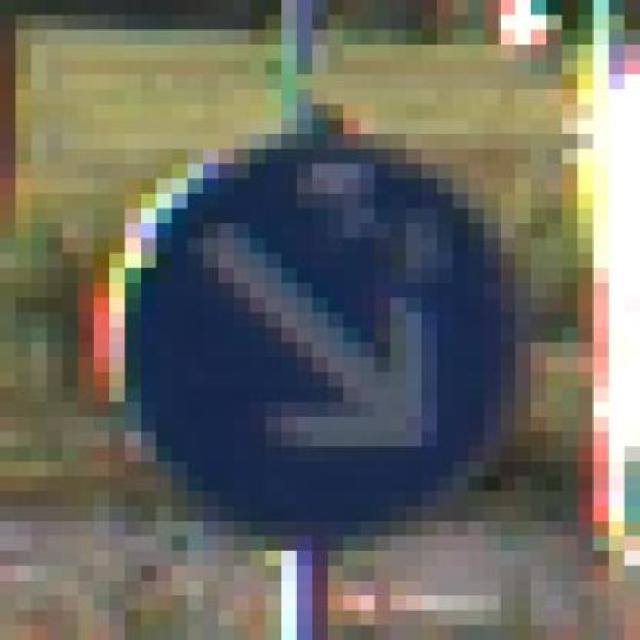Keep-Right: (78, 89, 531, 551)
